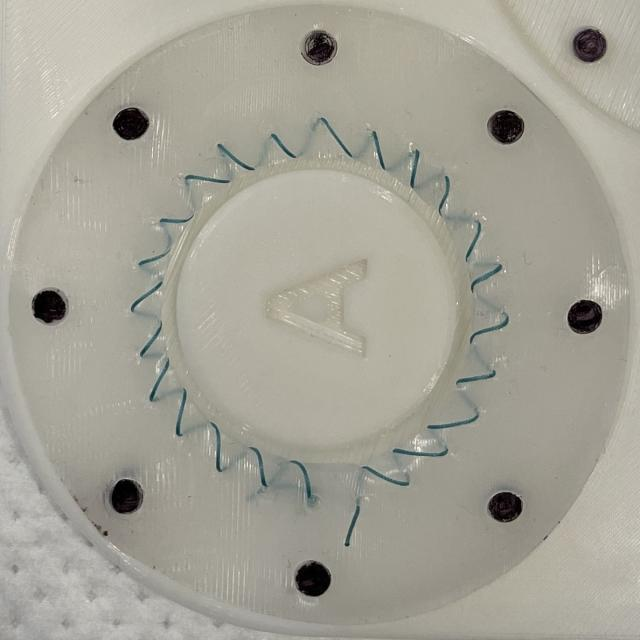suture: (321, 117, 352, 157), (470, 316, 509, 344), (217, 143, 255, 171), (130, 281, 163, 312), (362, 466, 409, 487), (471, 264, 502, 293), (149, 360, 169, 401), (291, 460, 311, 499), (427, 414, 478, 429), (249, 447, 267, 487), (140, 325, 162, 357), (210, 422, 223, 472), (271, 133, 296, 158), (345, 506, 360, 547), (466, 222, 481, 262), (456, 370, 496, 385), (138, 248, 171, 265), (372, 131, 386, 171), (176, 389, 187, 436), (438, 176, 450, 216), (392, 448, 448, 456), (410, 149, 420, 188), (185, 175, 230, 183), (160, 214, 194, 223)
